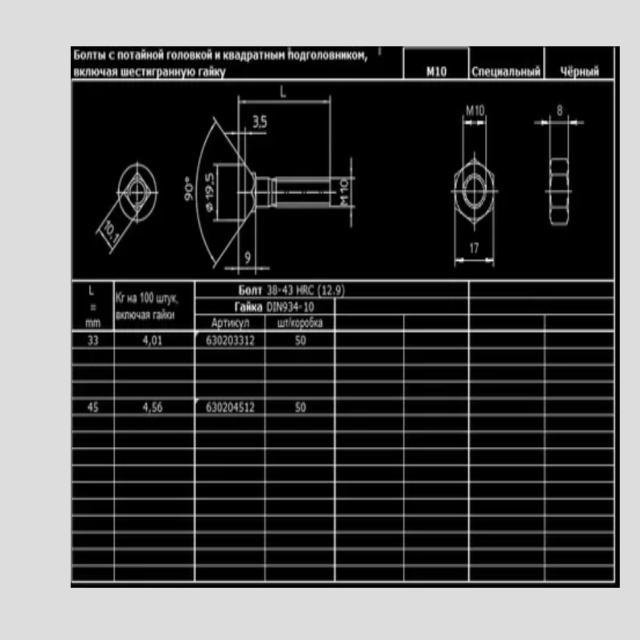marking_line: (237, 96, 333, 151), (227, 224, 271, 278), (534, 114, 585, 157), (454, 224, 495, 267), (91, 206, 127, 254), (332, 157, 356, 228), (461, 117, 488, 158), (227, 130, 268, 144)
numeric: (280, 86, 288, 99), (205, 202, 214, 213), (252, 114, 259, 128), (244, 251, 251, 265), (466, 104, 474, 116), (261, 114, 268, 127), (108, 223, 115, 236), (185, 183, 194, 193), (340, 196, 350, 205), (340, 179, 349, 188), (184, 193, 194, 201), (205, 173, 215, 181), (557, 104, 563, 117), (479, 104, 485, 117), (473, 241, 479, 254), (295, 400, 301, 413), (204, 186, 215, 193), (296, 285, 303, 296), (249, 402, 256, 413), (92, 335, 98, 347), (222, 335, 228, 347), (327, 284, 333, 296), (440, 66, 447, 76), (157, 335, 164, 345), (238, 336, 244, 347), (211, 317, 217, 328), (217, 319, 223, 330), (272, 285, 278, 296), (295, 334, 301, 345), (301, 335, 307, 346), (113, 233, 120, 242), (474, 105, 479, 117), (250, 335, 255, 347), (239, 318, 244, 330), (282, 286, 288, 296), (303, 301, 308, 313), (336, 284, 341, 296), (309, 285, 315, 295), (151, 402, 157, 412), (212, 402, 218, 412), (341, 187, 349, 194), (105, 220, 112, 228), (435, 67, 440, 78), (143, 336, 148, 347), (152, 335, 157, 346), (206, 335, 211, 346), (228, 335, 233, 346), (267, 284, 272, 295), (288, 284, 293, 295), (309, 301, 314, 312), (94, 401, 99, 412), (143, 402, 148, 413), (206, 402, 211, 413), (228, 402, 233, 413), (239, 401, 244, 412), (301, 402, 306, 413), (205, 194, 214, 200), (228, 319, 234, 328), (234, 335, 239, 345), (233, 319, 238, 329), (158, 402, 163, 412), (217, 403, 222, 413), (88, 334, 92, 346), (244, 320, 250, 328), (322, 284, 326, 296), (223, 319, 228, 328), (88, 402, 93, 411), (212, 335, 216, 346), (218, 335, 222, 346), (284, 301, 288, 312), (289, 302, 293, 312), (294, 303, 298, 313), (223, 403, 227, 413), (234, 402, 238, 412), (245, 402, 249, 412), (245, 335, 248, 346), (304, 285, 307, 296), (470, 243, 473, 253)
special_symbol: (90, 303, 97, 311), (342, 283, 346, 296), (318, 284, 322, 296), (185, 176, 190, 183), (278, 288, 282, 292), (299, 305, 303, 309), (148, 408, 151, 413)
